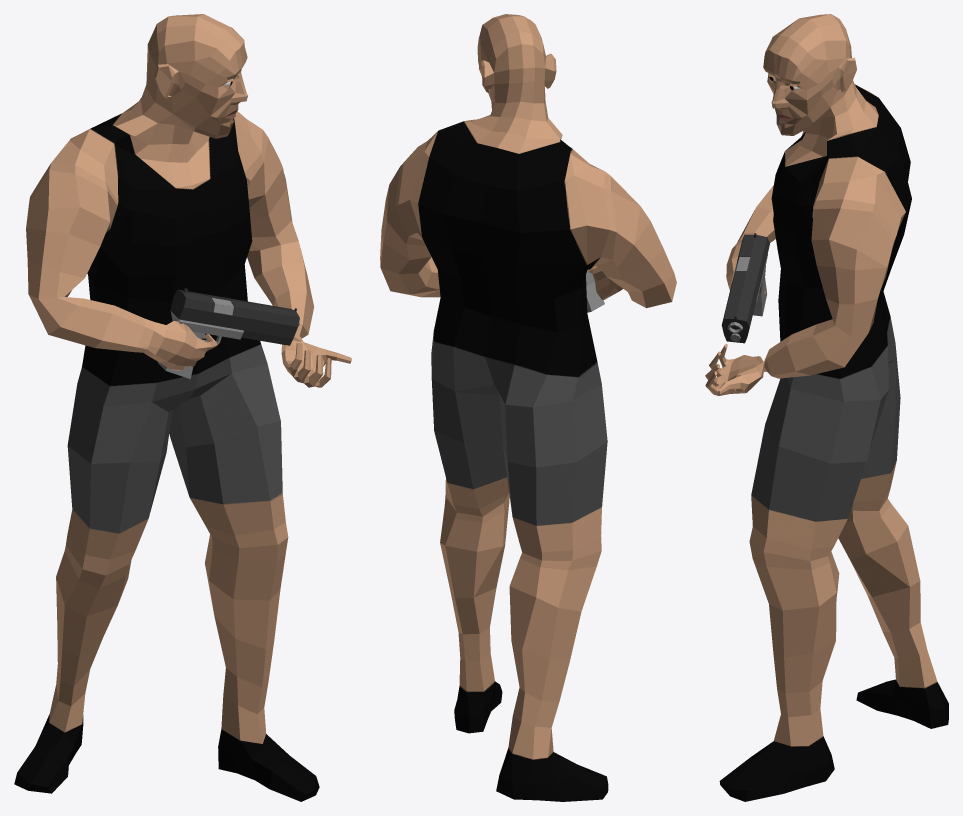
File: PlayerIdle(122).obj
3 views of the same model, side by side, from view 1: azimuth 30°, elevation 25°; view 2: azimuth 150°, elevation 25°; view 3: azimuth 270°, elevation 25° (orthographic). The views are drawn at different scales.
Visible parts, largest first — view 1: Plane002, Box003; view 2: Plane002; view 3: Plane002, Box003.
Boxes of the visible parts, bbox=[...] form: Plane002: bbox=[14, 14, 351, 801]; Box003: bbox=[158, 288, 299, 378]; Plane002: bbox=[380, 14, 676, 801]; Plane002: bbox=[705, 14, 948, 801]; Box003: bbox=[721, 233, 769, 343].
Size of the model in its own units: 699 by 1800 by 537.
